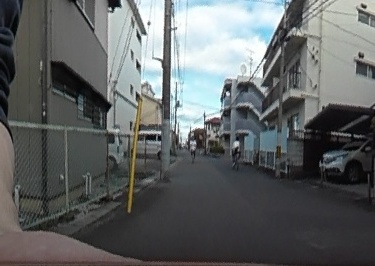person: (232, 133, 242, 168), (187, 135, 197, 160)
